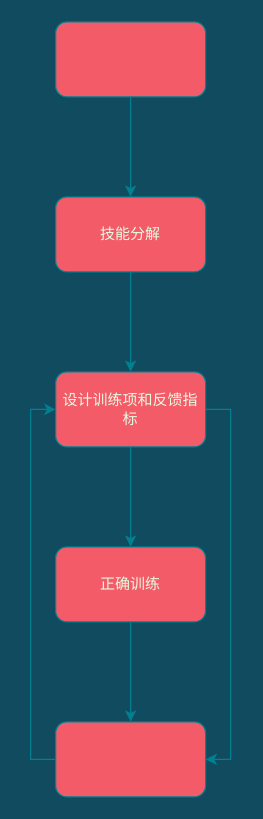
Image size: 263x819. Some labels were removed from this diagram. The centre of each missing label's shape, as x and y in pixels:
"20%核心技能" belongs at point (130, 59).
"反馈" belongs at point (130, 759).
